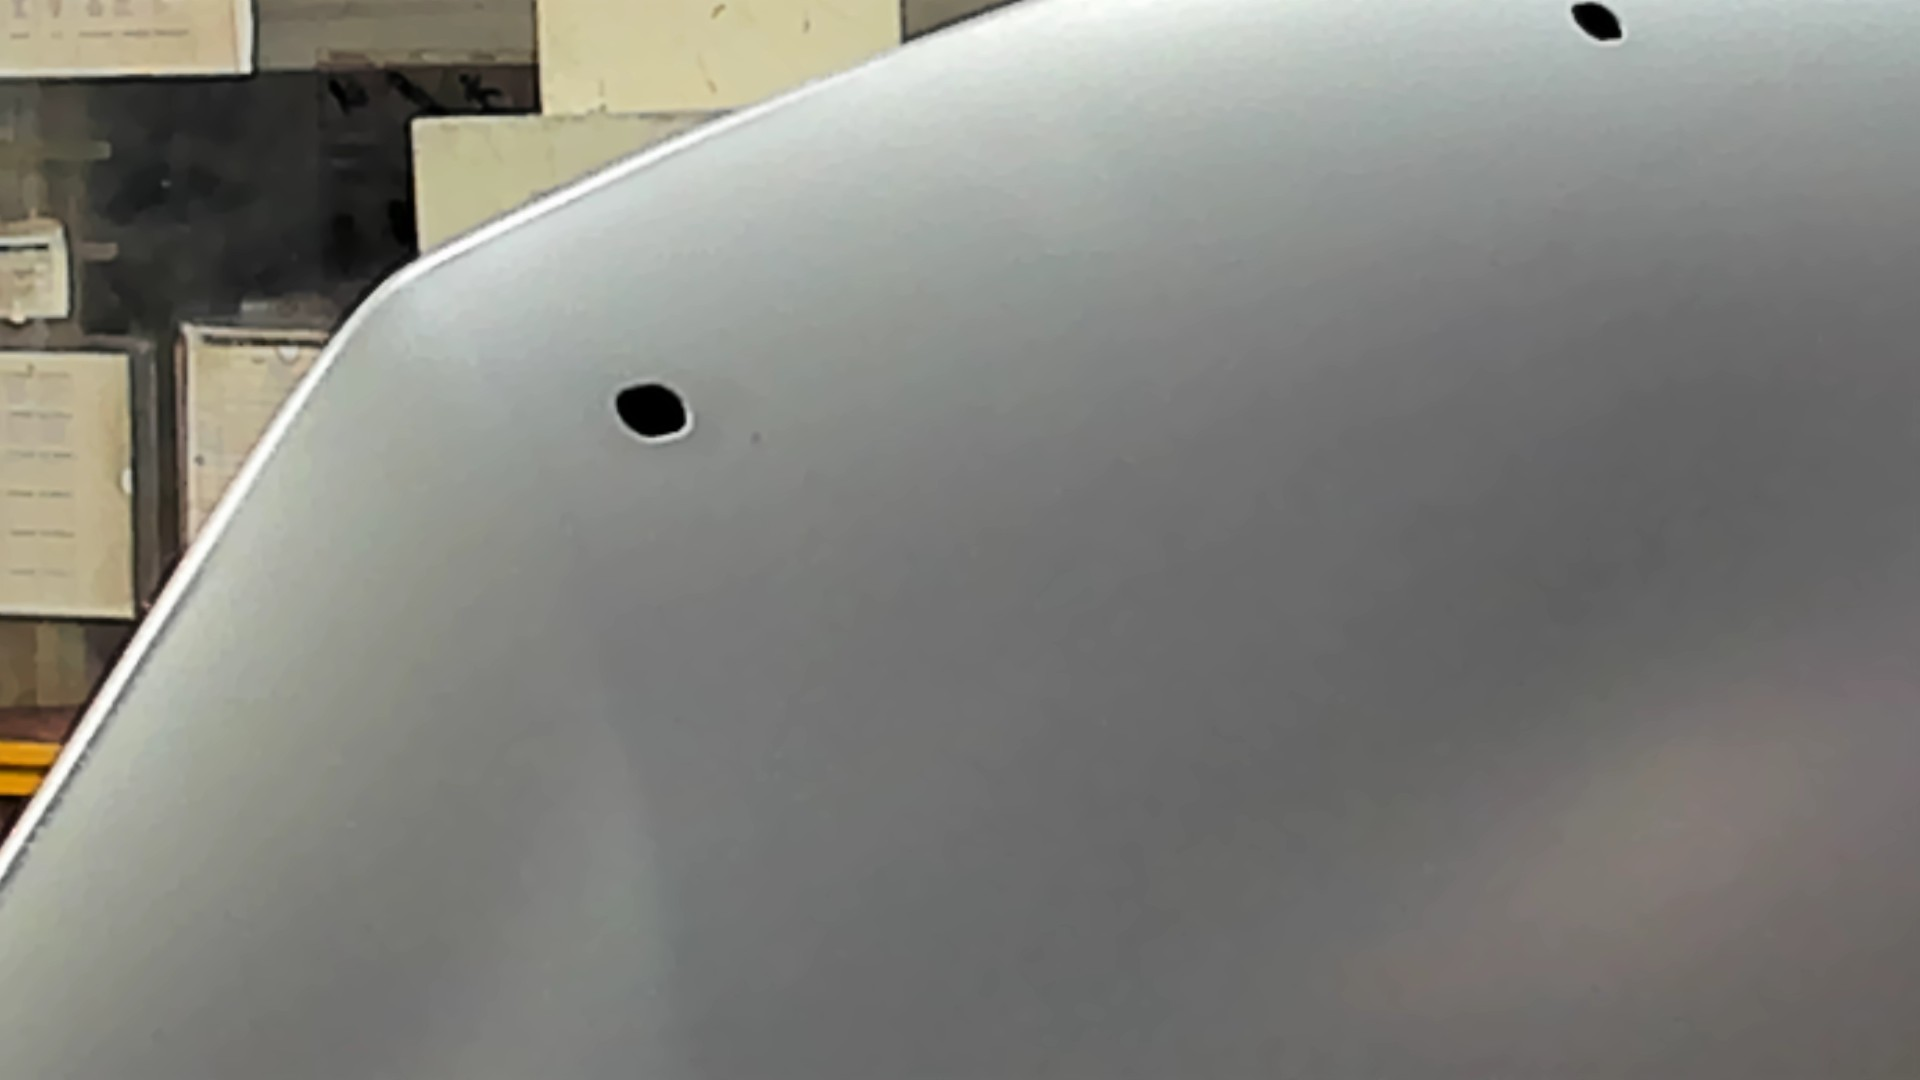amorfo: (604, 376, 711, 456), (1560, 1, 1640, 53)
